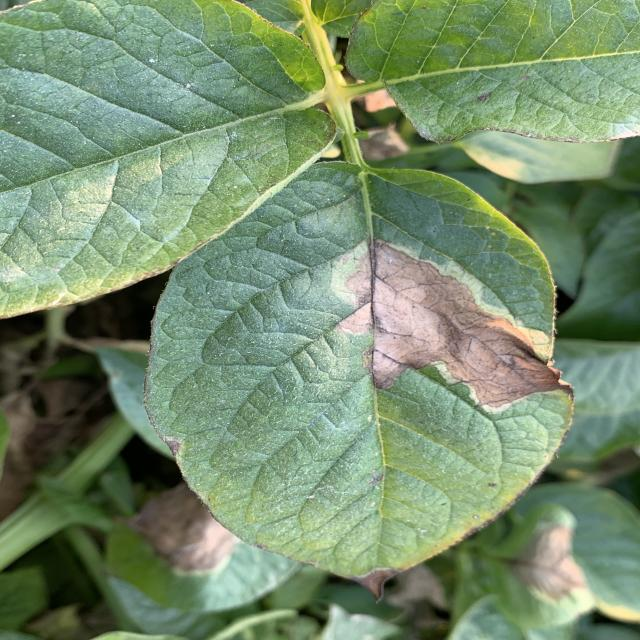lateblight: (350, 241, 567, 412), (128, 490, 238, 578), (521, 527, 592, 601)
